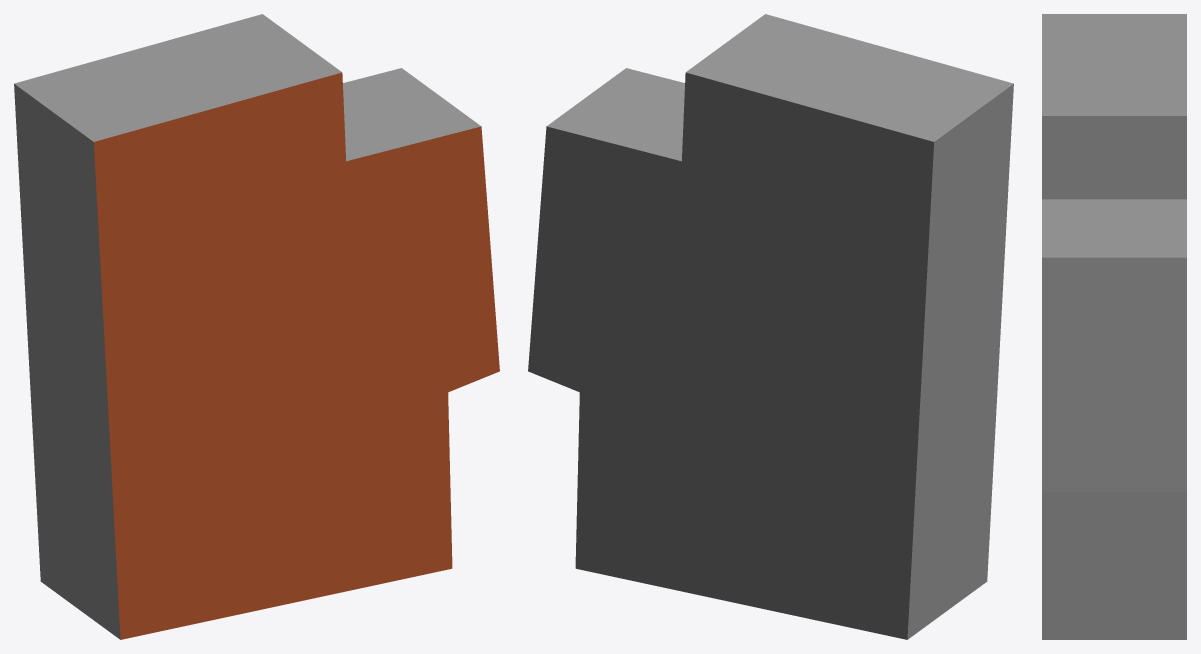
File: construction_3150_assumed_A_Casa_h6m.obj
3 renders of one model, left to right at view 1: azimuth 30°, elevation 25°; view 2: azimuth 150°, elevation 25°; view 3: azimuth 270°, elevation 25°, orthographic. The views are drawn at different scales.
Visible parts, largest first — view 1: construction_3150_assumed_A_Casa; view 2: construction_3150_assumed_A_Casa; view 3: construction_3150_assumed_A_Casa.
Boxes of the visible parts, x1,y1,x2,y2 form: construction_3150_assumed_A_Casa: (14, 14, 499, 639); construction_3150_assumed_A_Casa: (528, 14, 1013, 639); construction_3150_assumed_A_Casa: (1042, 14, 1186, 639).
Size of the model in its own units: 17.63 by 21.7 by 6.
